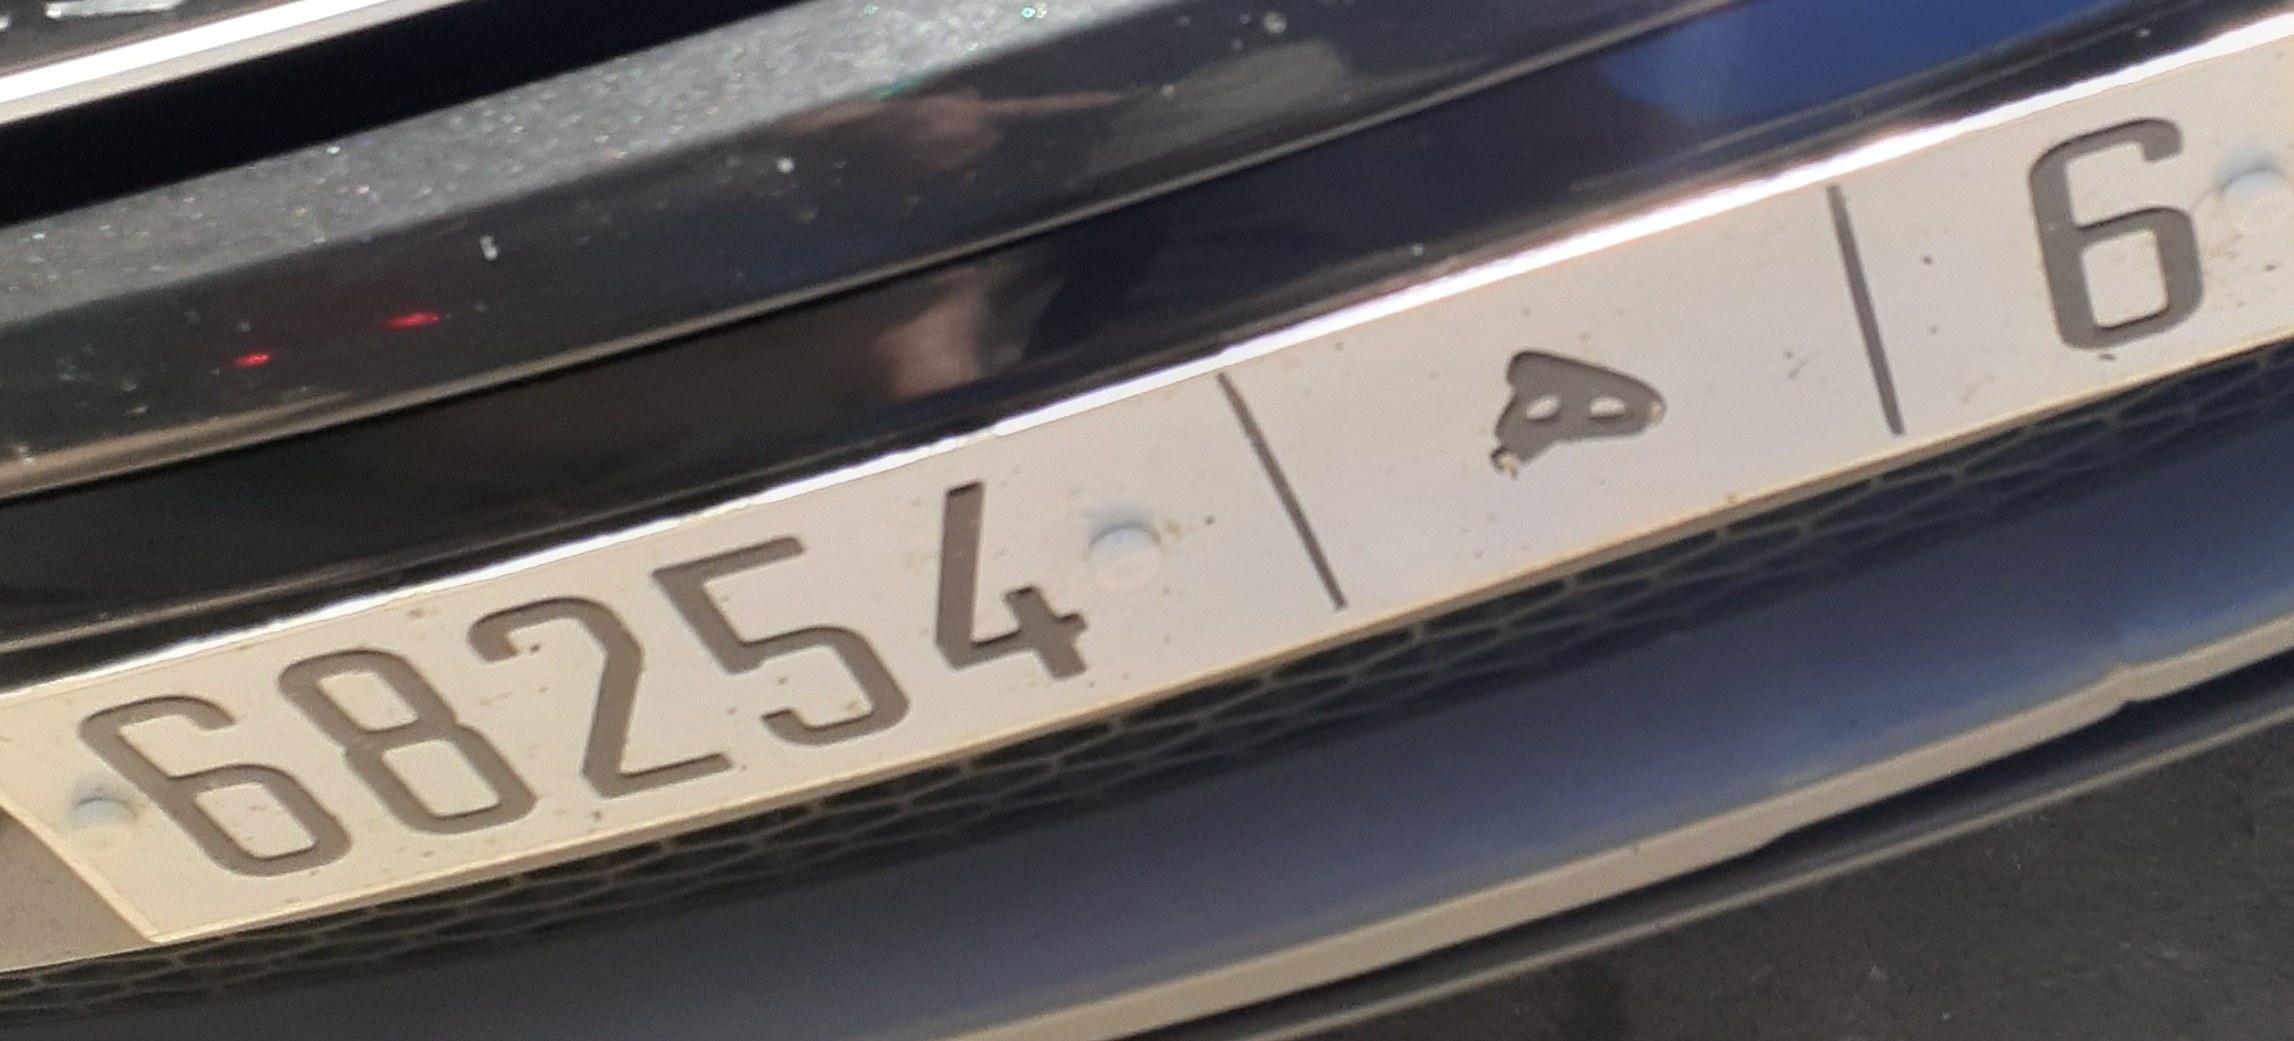2: (440, 598, 738, 808)
4: (880, 483, 1137, 713)
5: (633, 534, 917, 767)
6: (34, 683, 369, 886), (1989, 118, 2230, 368)
8: (257, 646, 541, 845)
h: (1428, 311, 1715, 514)
